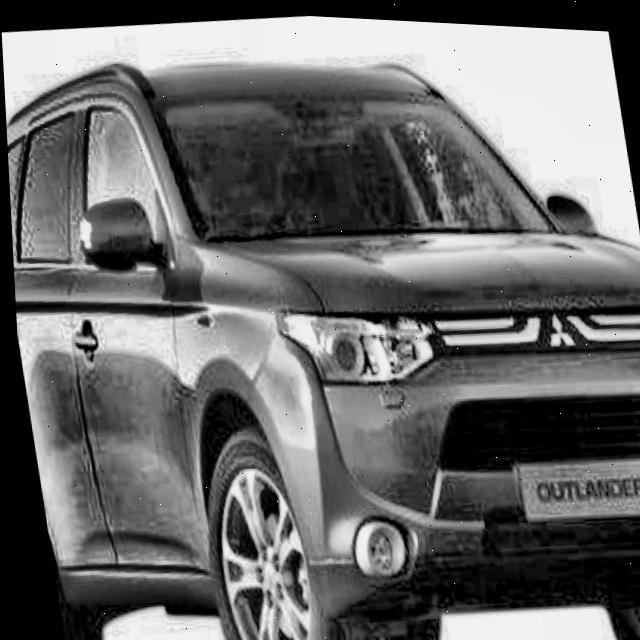light_vehicle: (0, 1, 640, 640)
